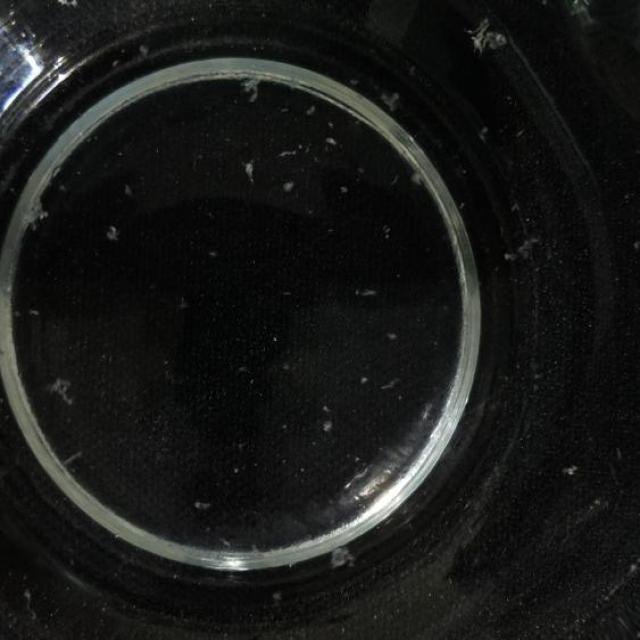fiber: (503, 231, 550, 267), (472, 8, 507, 54), (44, 370, 86, 406), (19, 191, 56, 230), (99, 208, 132, 248), (244, 64, 268, 108), (323, 532, 355, 562), (374, 86, 405, 113), (186, 491, 223, 513), (321, 124, 346, 156), (275, 175, 301, 204), (275, 140, 301, 164), (355, 280, 384, 300), (563, 454, 581, 483), (238, 152, 258, 178), (56, 0, 80, 19), (320, 414, 338, 438)
